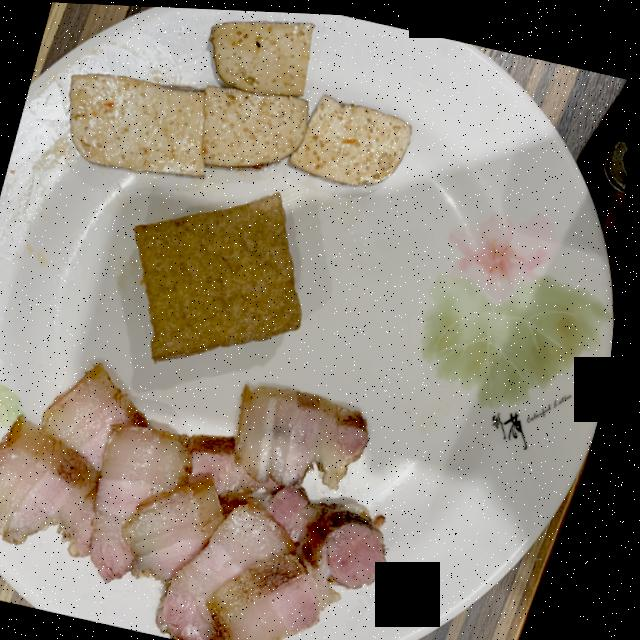coin: (604, 122, 633, 187)
egg tofu: (138, 189, 307, 359)
firm tofu: (71, 18, 413, 181)
grilled pork: (0, 361, 397, 640)
